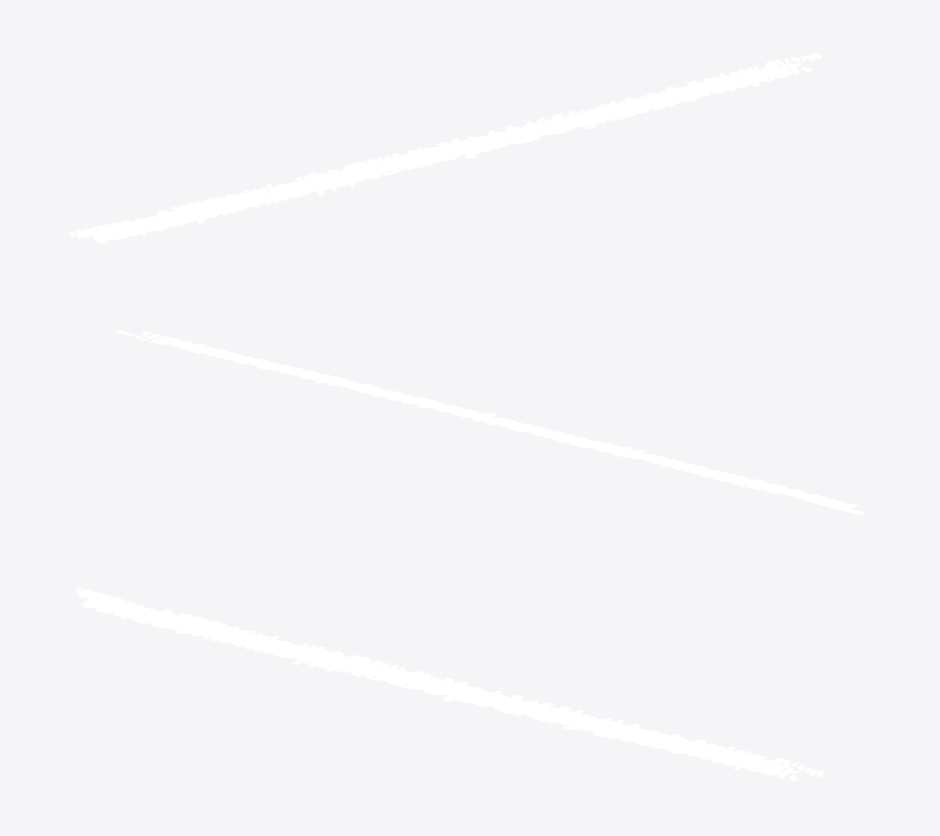
The model's file is SEEYOURFUTURE3.glb.
3 views of the same model, one above another, from view 1: azimuth 30°, elevation 25°; view 2: azimuth 150°, elevation 25°; view 3: azimuth 330°, elevation 25° (orthographic).
Visible parts, largest first — view 1: Plane.001, Plane.004, Plane.003, Plane.011, Plane.007, Plane.012, Plane.002, Plane.006, Plane, Plane.010; view 2: Plane.001, Plane.004, Plane.011, Plane.003, Plane.012, Plane.007, Plane.002; view 3: Plane.001, Plane.004, Plane.003, Plane.011, Plane.007, Plane.002, Plane.012, Plane.006, Plane, Plane.010.
Boxes of the visible parts, x1=… form: Plane.001: x1=98, y1=79, x2=719, y2=239; Plane.004: x1=118, y1=75, x2=727, y2=233; Plane.003: x1=75, y1=61, x2=785, y2=242; Plane.011: x1=82, y1=54, x2=821, y2=243; Plane.007: x1=69, y1=59, x2=780, y2=240; Plane.012: x1=77, y1=56, x2=806, y2=242; Plane.002: x1=78, y1=61, x2=777, y2=240; Plane.006: x1=140, y1=104, x2=674, y2=235; Plane: x1=90, y1=56, x2=795, y2=230; Plane.010: x1=82, y1=53, x2=816, y2=240; Plane.001: x1=217, y1=355, x2=842, y2=507; Plane.004: x1=207, y1=353, x2=818, y2=502; Plane.011: x1=115, y1=330, x2=860, y2=511; Plane.003: x1=149, y1=339, x2=864, y2=513; Plane.012: x1=127, y1=334, x2=860, y2=513; Plane.007: x1=148, y1=341, x2=865, y2=515; Plane.002: x1=153, y1=342, x2=853, y2=512; Plane.001: x1=96, y1=597, x2=722, y2=755; Plane.004: x1=121, y1=601, x2=732, y2=757; Plane.003: x1=75, y1=591, x2=790, y2=771; Plane.011: x1=79, y1=593, x2=824, y2=781; Plane.007: x1=74, y1=587, x2=791, y2=767; Plane.002: x1=83, y1=590, x2=786, y2=767; Plane.012: x1=79, y1=591, x2=812, y2=775; Plane.006: x1=120, y1=616, x2=655, y2=748; Plane: x1=96, y1=593, x2=805, y2=769; Plane.010: x1=82, y1=591, x2=824, y2=778.
Size of the model in its own units: 0.00654 by 0.00011 by 0.000622.
Materials: 1 (1 with a texture image).
